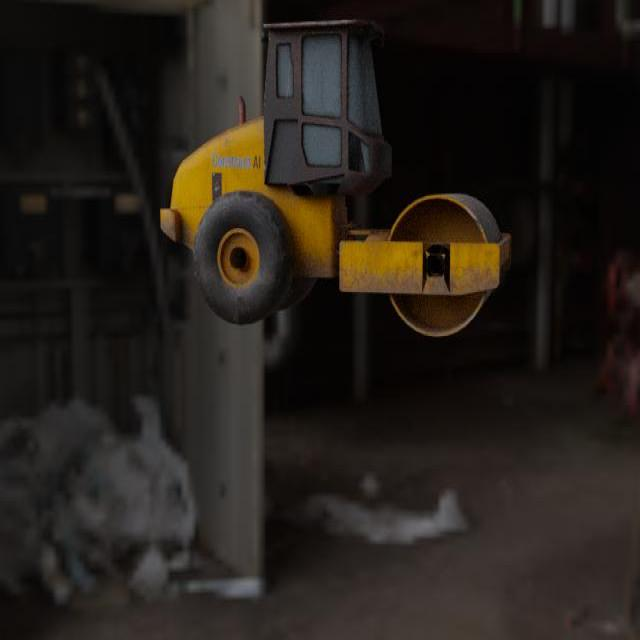Roller: (160, 19, 511, 336)
